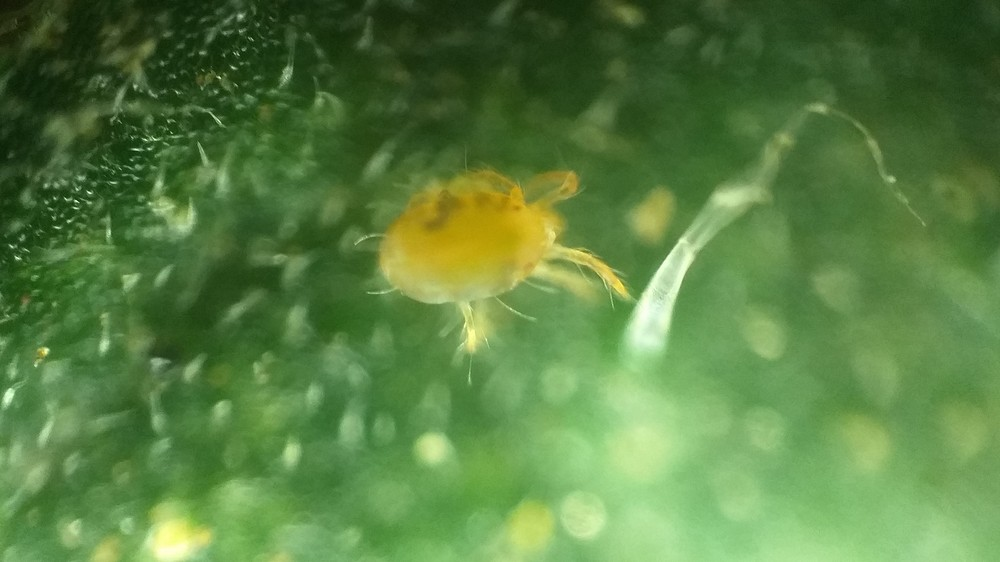Aracnido Rojo: (337, 142, 649, 363)
